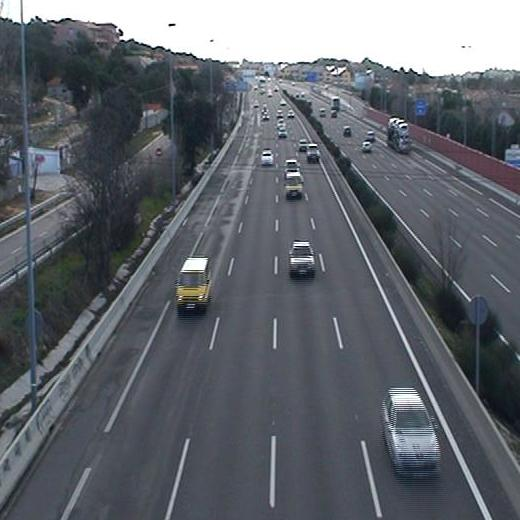car: (378, 386, 443, 479), (287, 240, 318, 277), (284, 173, 305, 200), (259, 148, 276, 168), (305, 143, 321, 163)
van: (172, 256, 212, 313)
